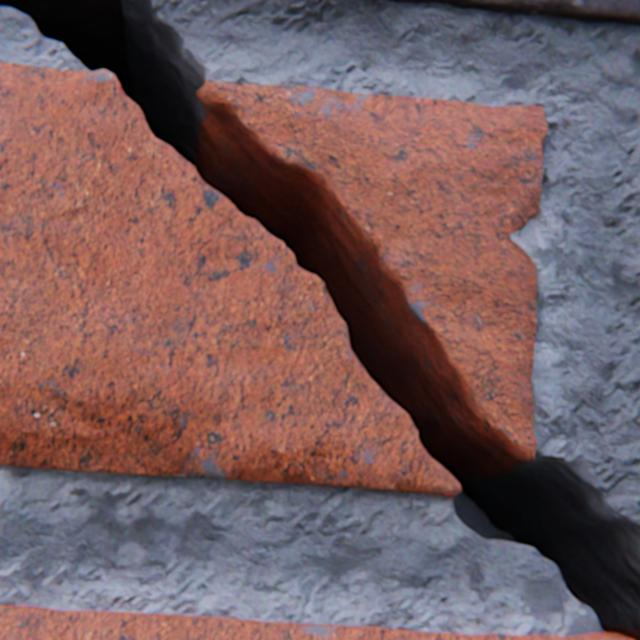brick: (0, 604, 634, 639), (357, 0, 639, 26)
broken_brick: (0, 63, 460, 496), (201, 80, 546, 460)
crack: (0, 0, 639, 639)
